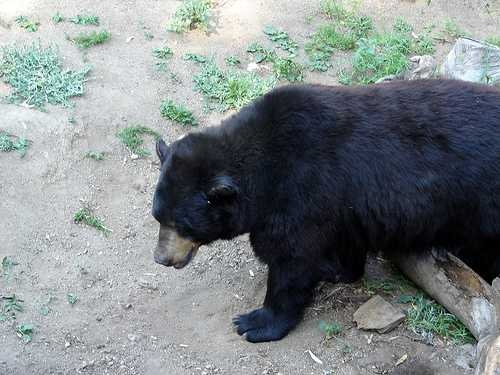bear: (128, 140, 256, 268)
